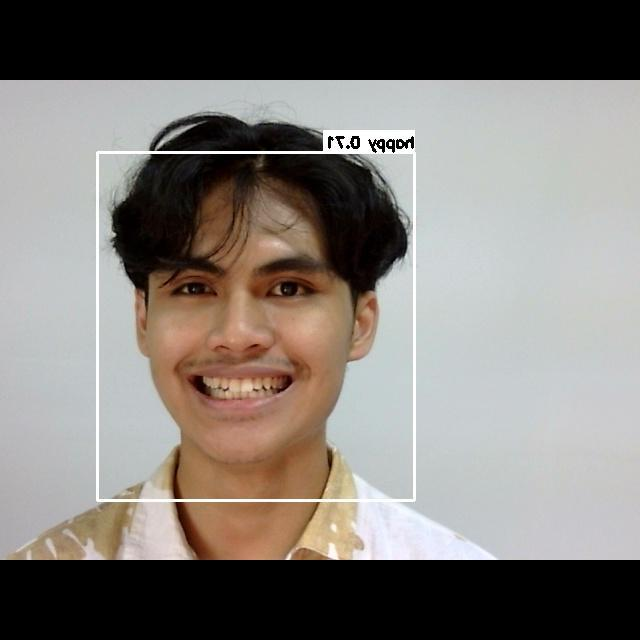Happy: (134, 216, 344, 441)
